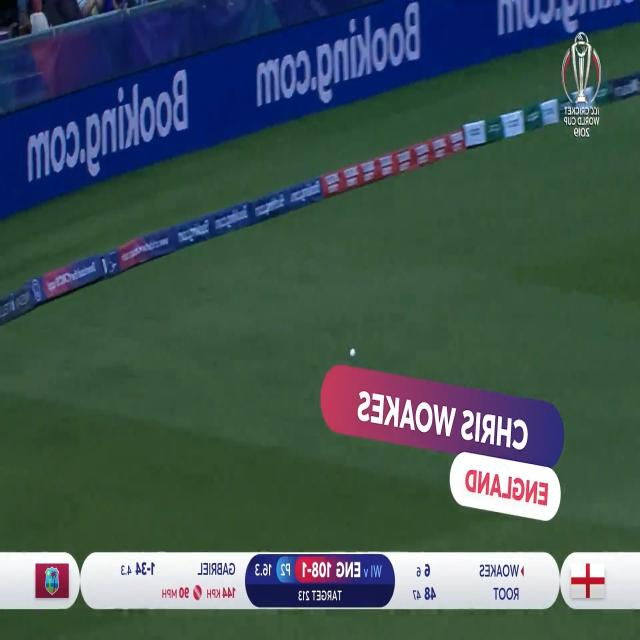ball: (337, 344, 363, 366)
